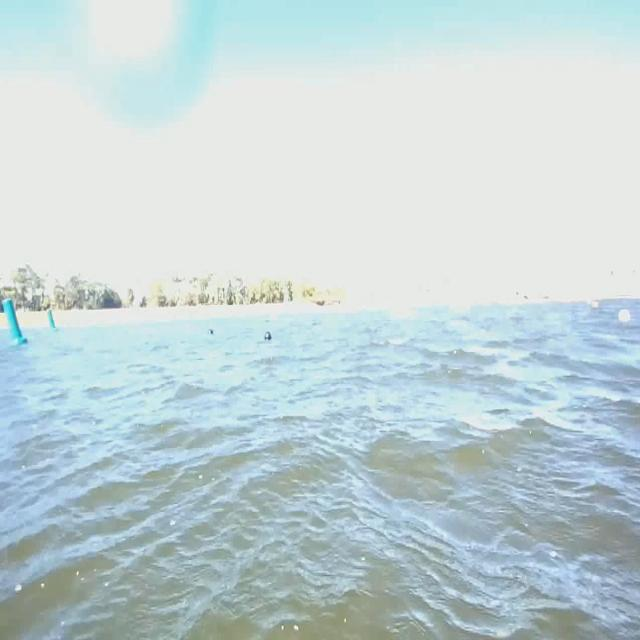black-buoy: (263, 331, 272, 341), (207, 329, 214, 335)
green-column-buoy: (0, 298, 28, 349), (46, 308, 56, 328)
